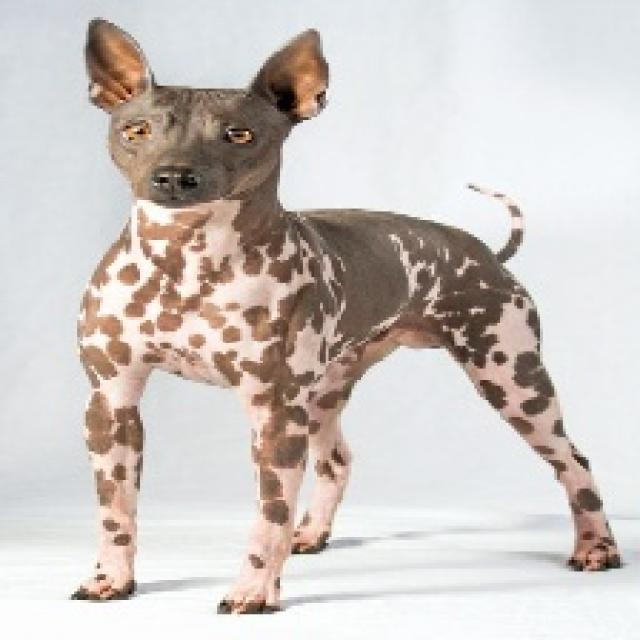cho khoe manh: (0, 0, 569, 603)
